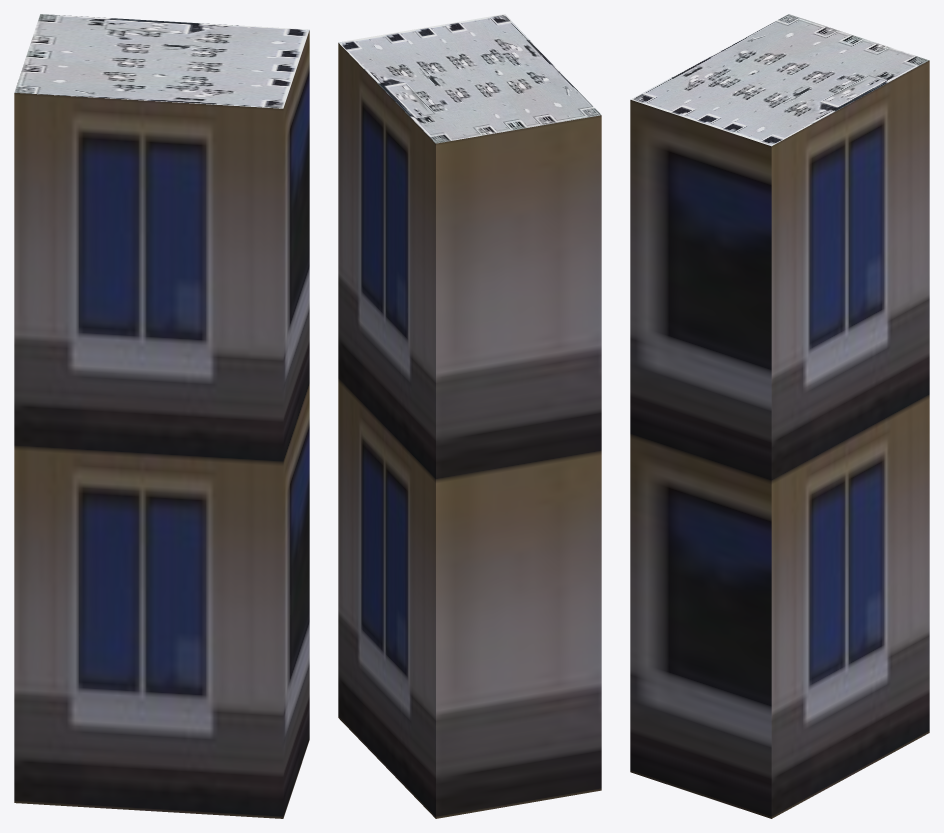
Rendered from ResTex__2115.fbx.
3 renders of one model, left to right at view 1: azimuth 30°, elevation 25°; view 2: azimuth 150°, elevation 25°; view 3: azimuth 270°, elevation 25°, orthographic. The views are drawn at different scales.
Visible parts, largest first — view 1: CityEngineMaterial_5_m, CityEngineMaterial_4_m; view 2: CityEngineMaterial_5_m, CityEngineMaterial_4_m; view 3: CityEngineMaterial_5_m, CityEngineMaterial_4_m.
Part boxes in pixels (x1,y1,x2,y2): CityEngineMaterial_5_m: (14,30,309,818); CityEngineMaterial_4_m: (14,14,309,108); CityEngineMaterial_5_m: (338,43,601,818); CityEngineMaterial_4_m: (338,14,601,143); CityEngineMaterial_5_m: (630,60,929,818); CityEngineMaterial_4_m: (631,14,928,146).
Bounding box in the file's own units: 2.53 × 6 × 2.42.
Materials: 2 (2 with a texture image).
